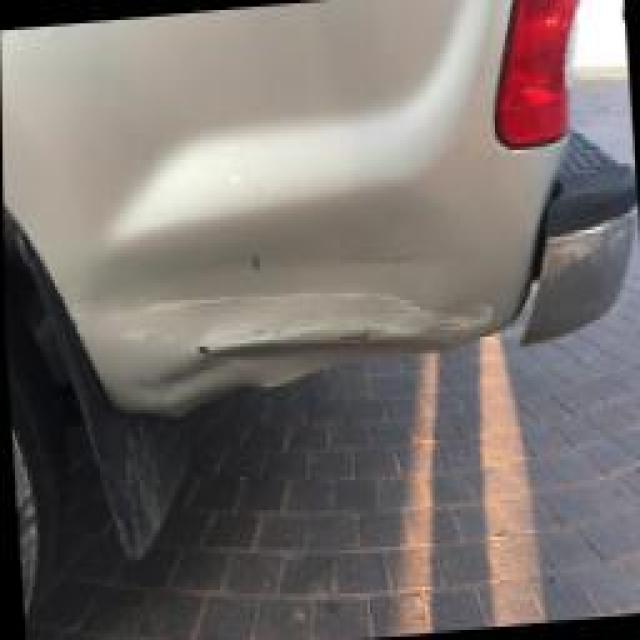Fender: (85, 100, 524, 427)
